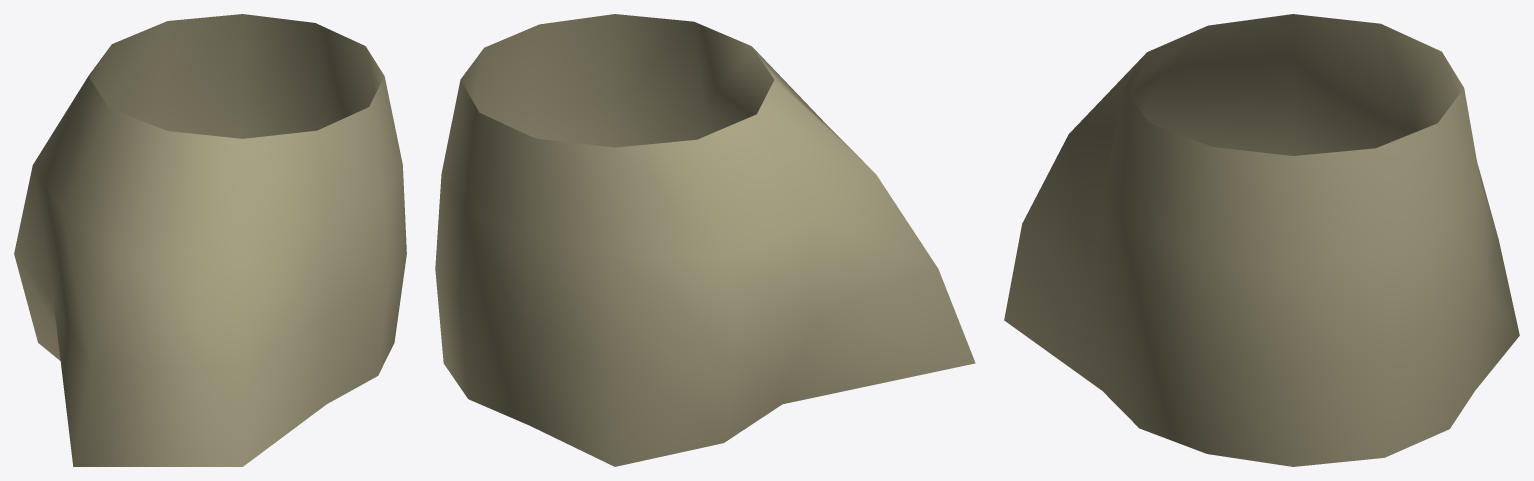
Rendered from tin_armor_pauldron.R.glb.
3 renders of one model, left to right at view 1: azimuth 30°, elevation 25°; view 2: azimuth 150°, elevation 25°; view 3: azimuth 270°, elevation 25°, orthographic. The views are drawn at different scales.
Visible parts, largest first — view 1: tin_armor_pauldron.R; view 2: tin_armor_pauldron.R; view 3: tin_armor_pauldron.R.
Part boxes in pixels (bbox=[...]): tin_armor_pauldron.R: bbox=[14, 14, 406, 466]; tin_armor_pauldron.R: bbox=[435, 14, 975, 466]; tin_armor_pauldron.R: bbox=[1004, 14, 1519, 466].
Size of the model in its own units: 0.2337 by 0.149 by 0.2299.
